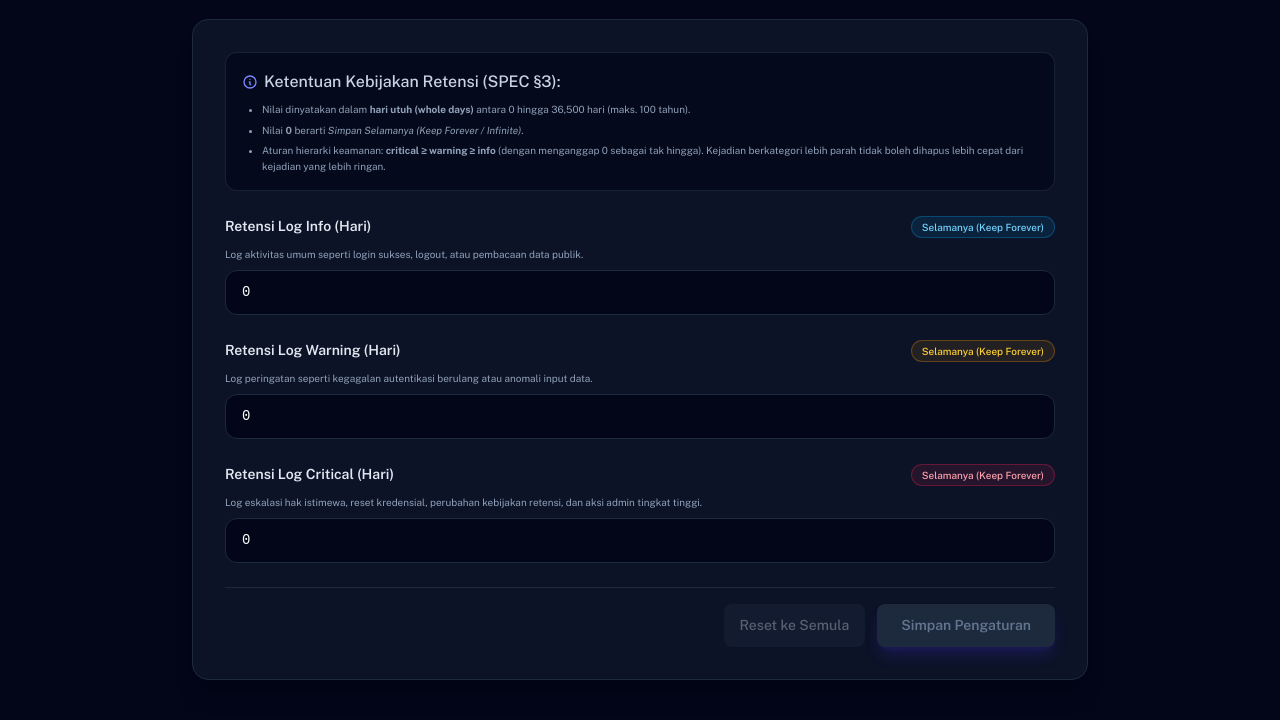
Test: AuditRetentionSettingsView Client-Side Validation & Error Handling (Non-Happy Path) › disables save button and displays load error with retry button when initial fetch fails (non-happy path)
(page scrolled)
Expected: the submit button is disabled, [877,604,1055,647]
// Form cannot submit when triggered
Submit the form, box [225,215,1055,647]
(page scrolled)
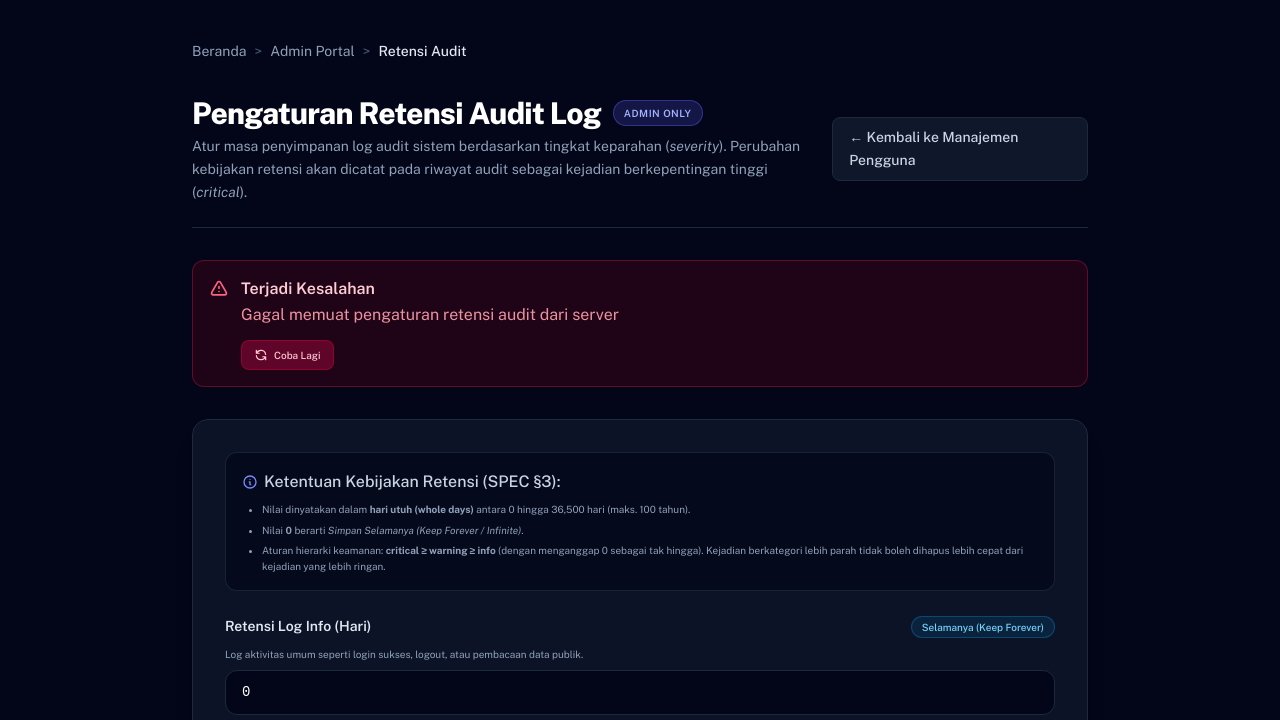
Click the button with test id "retry-btn" at coordinates (287, 355), box [241,340,334,370]
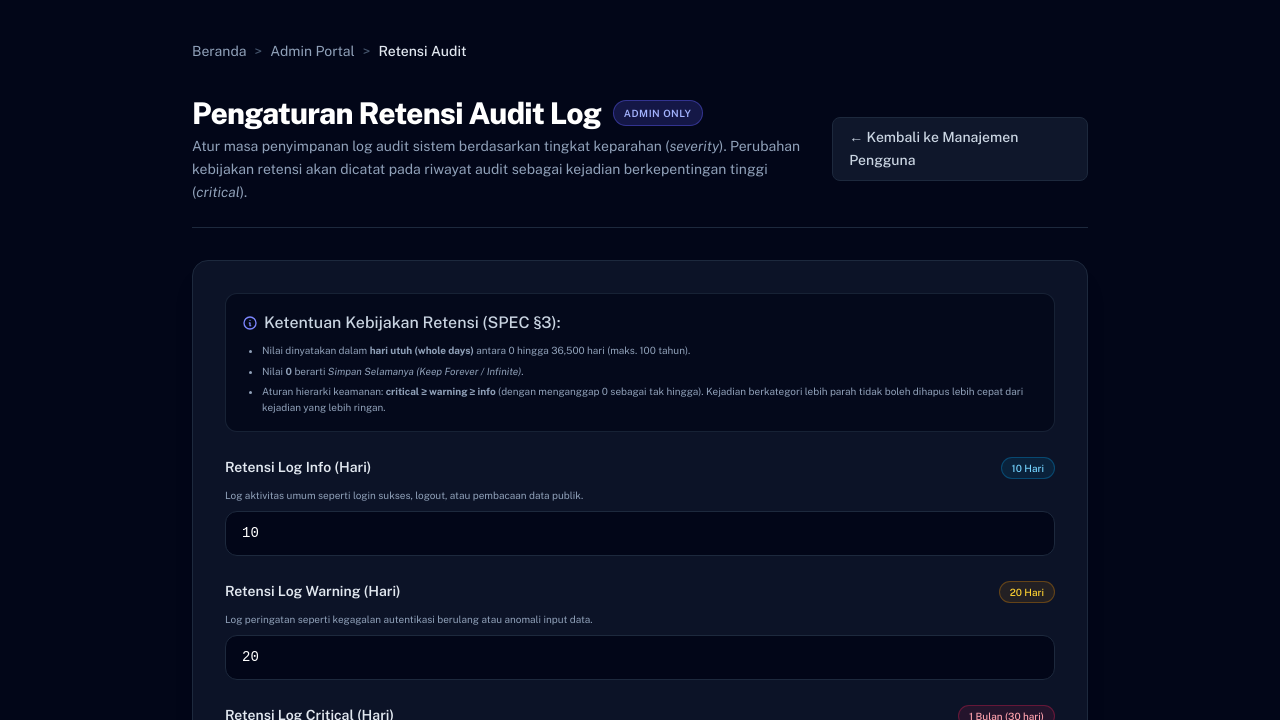
Now the number field with id "retention-info" holds "10", box [225,511,1055,556]
